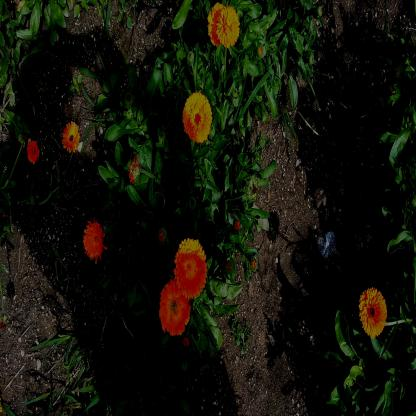marigold: (174, 238, 207, 299), (159, 278, 192, 336), (181, 90, 213, 142), (358, 286, 388, 338), (82, 217, 107, 263), (215, 1, 240, 47), (206, 1, 229, 47), (61, 119, 80, 154), (26, 138, 40, 164)
